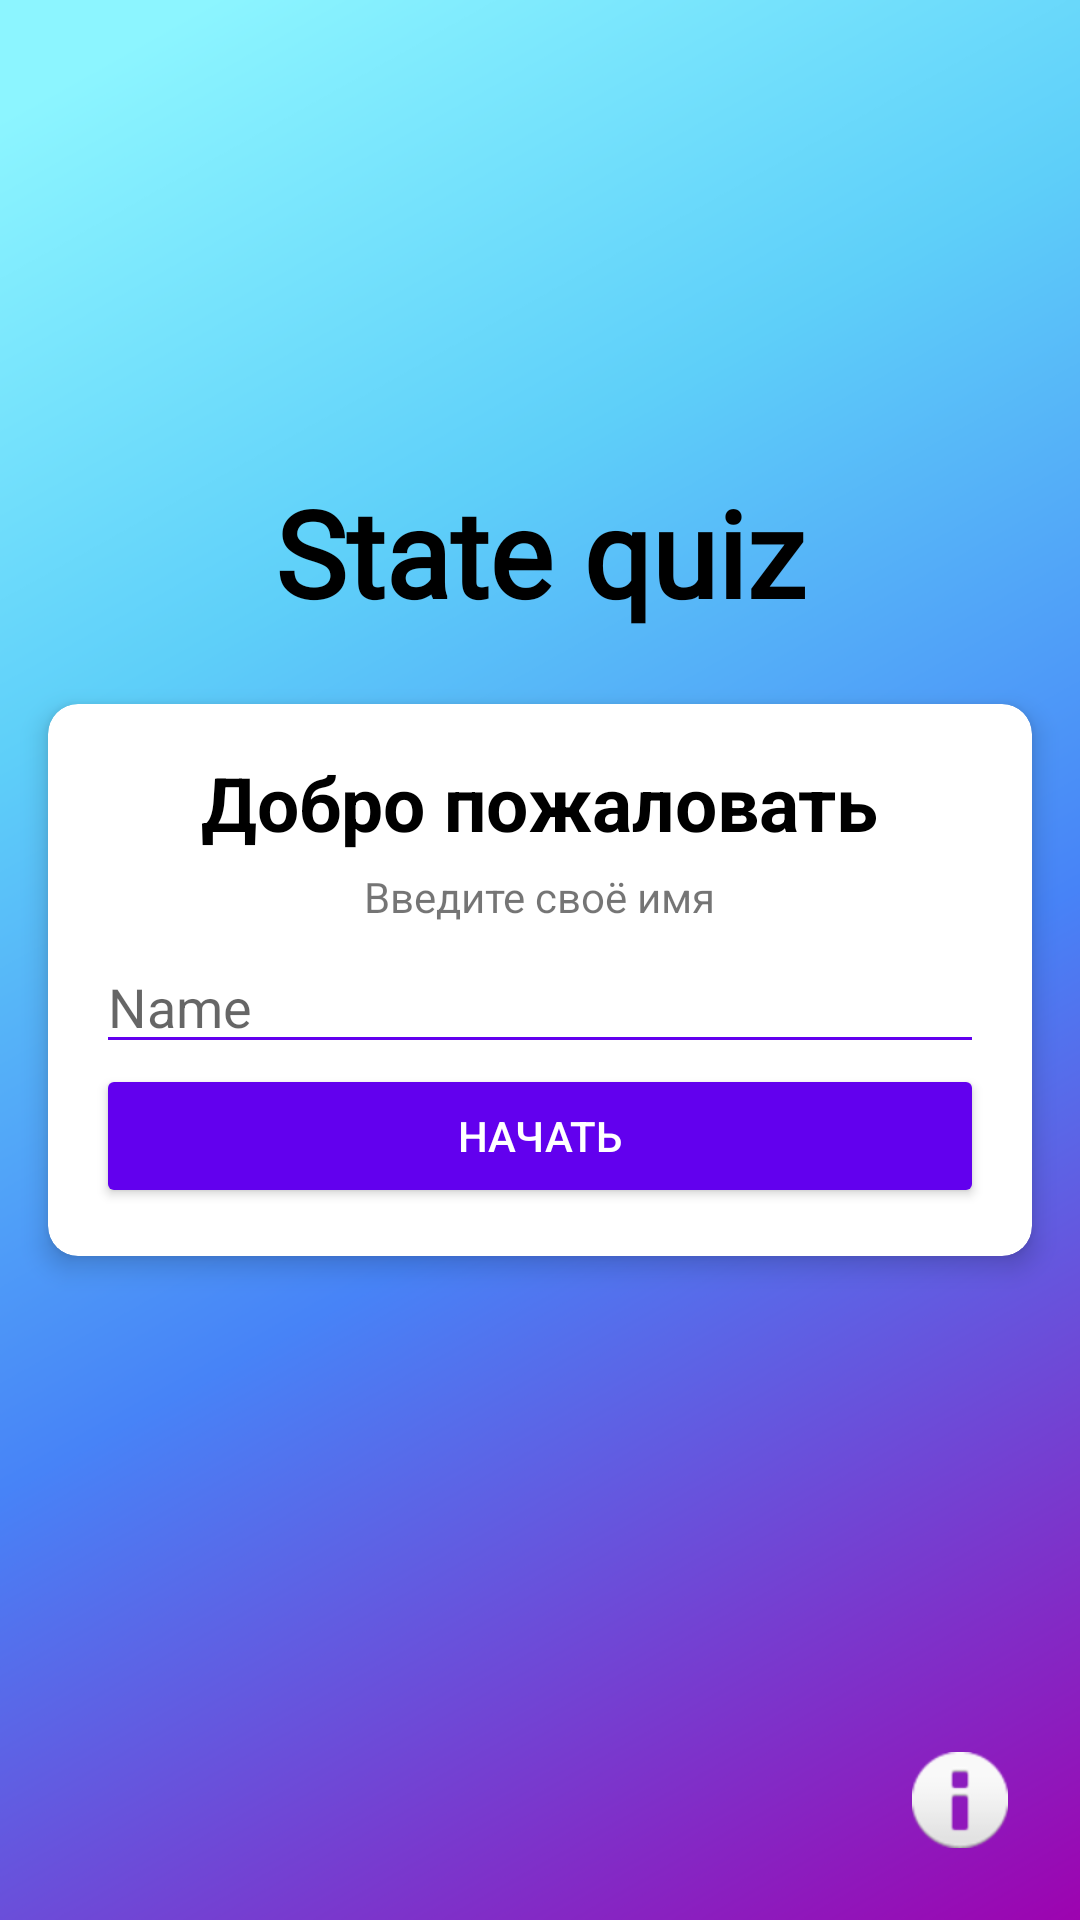

Screen size 1080 x 1920. Icon name, then its center in pixels as (x,y):
info: (960,1800)
